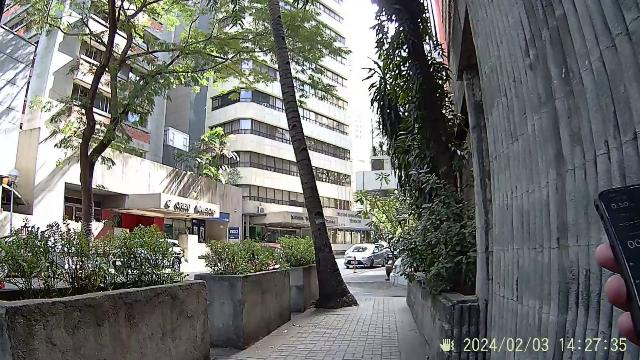lamp_post: (5, 167, 22, 231)
potted_plant: (0, 230, 294, 360)
tree: (290, 140, 354, 312), (74, 116, 108, 248)
